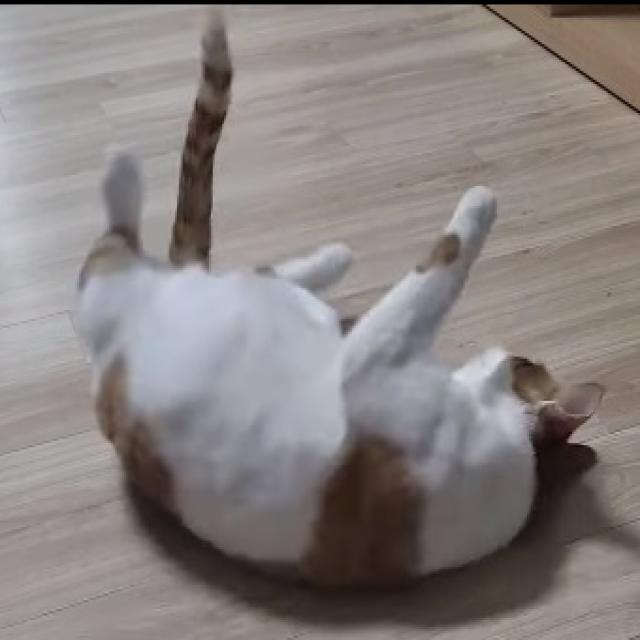cat: (69, 11, 609, 590)
